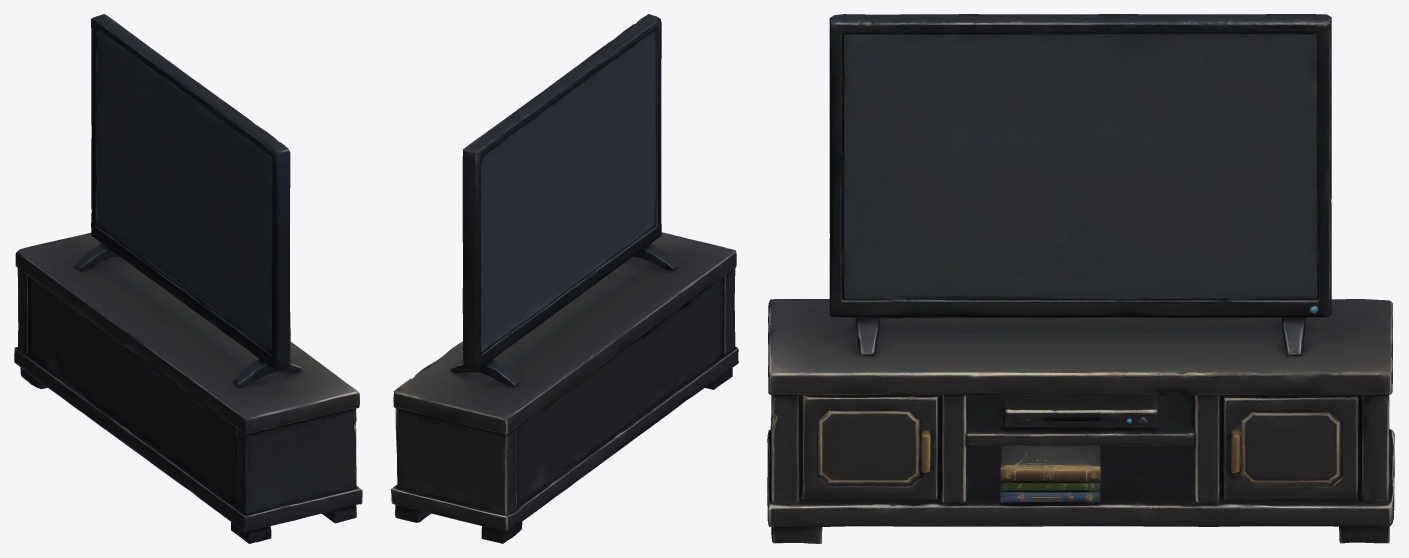
File: tele.glb
The picture shows the model from 3 angles, left to right: view 1: azimuth 30°, elevation 25°; view 2: azimuth 150°, elevation 25°; view 3: azimuth 270°, elevation 25°; orthographic projection. The views are drawn at different scales.
Visible parts, largest first — view 1: tripo_node_77dcc575-db36-4204-8e76-9bff76aab4f4; view 2: tripo_node_77dcc575-db36-4204-8e76-9bff76aab4f4; view 3: tripo_node_77dcc575-db36-4204-8e76-9bff76aab4f4.
Boxes of the visible parts, <box> form: tripo_node_77dcc575-db36-4204-8e76-9bff76aab4f4: <box>14,14,362,543</box>; tripo_node_77dcc575-db36-4204-8e76-9bff76aab4f4: <box>391,14,738,543</box>; tripo_node_77dcc575-db36-4204-8e76-9bff76aab4f4: <box>767,14,1394,543</box>.
Bounding box in the file's own units: 0.3051 × 0.8659 × 1.
1 material, 1 textured.
